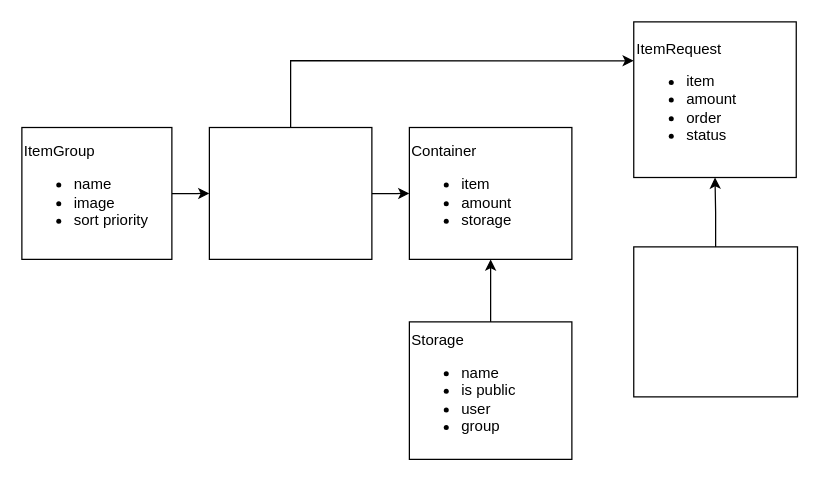
Some shapes in this 820 by 481 pixel diagram are drawn without their labels. The shapes that lost their labels are listed below. From the top down, each one's centre as x and y in pixels, then its label:
At point 290,192: "Item name group image".
At point 715,321: "Order date user storage from storage to status".
